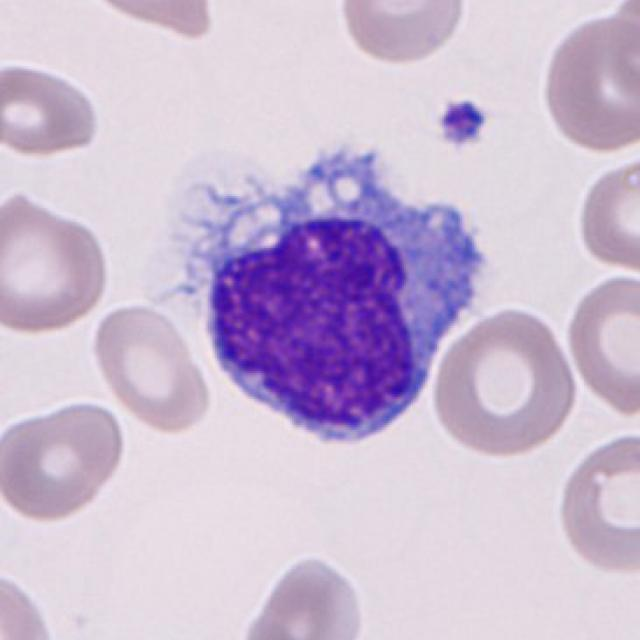Monocyte: (168, 130, 500, 458)
Platelets: (434, 95, 489, 151)
RBC: (426, 302, 580, 461), (88, 298, 214, 434), (0, 188, 114, 338), (0, 395, 129, 525), (537, 7, 636, 156), (552, 426, 640, 579), (234, 550, 371, 640), (563, 267, 638, 420), (0, 57, 105, 162), (334, 0, 470, 68), (574, 154, 638, 274), (80, 0, 220, 40), (0, 565, 61, 640)
